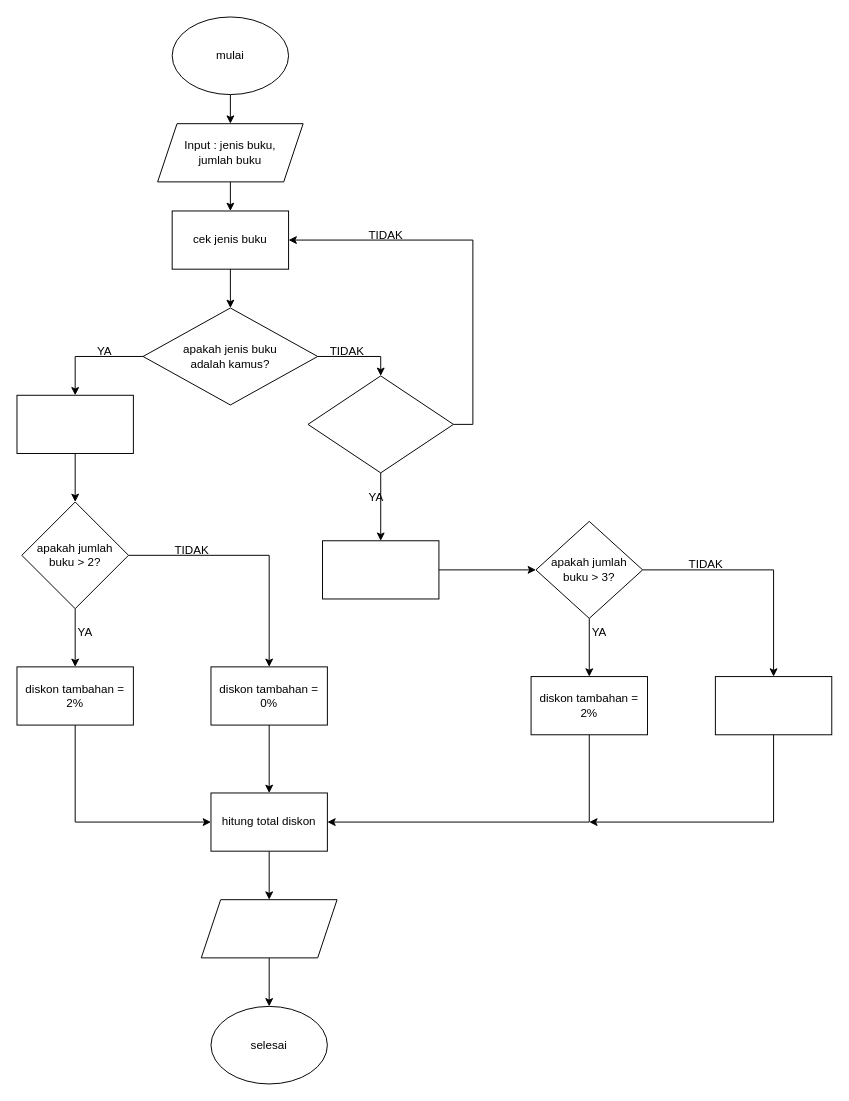
Image size: 849x1101. Some labels were removed from this diagram. Here are the shapes that lost their labels. From the top down, the centre of each, then its label:
pixel 74 423: diskon = 10%
pixel 380 424: apakah jenis buku adalah novel?
pixel 380 569: diskon = 7%
pixel 773 705: diskon tambahan = 1%
pixel 268 928: output : total diskon
